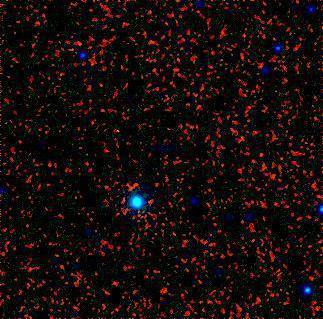star: (65, 44, 95, 74)
